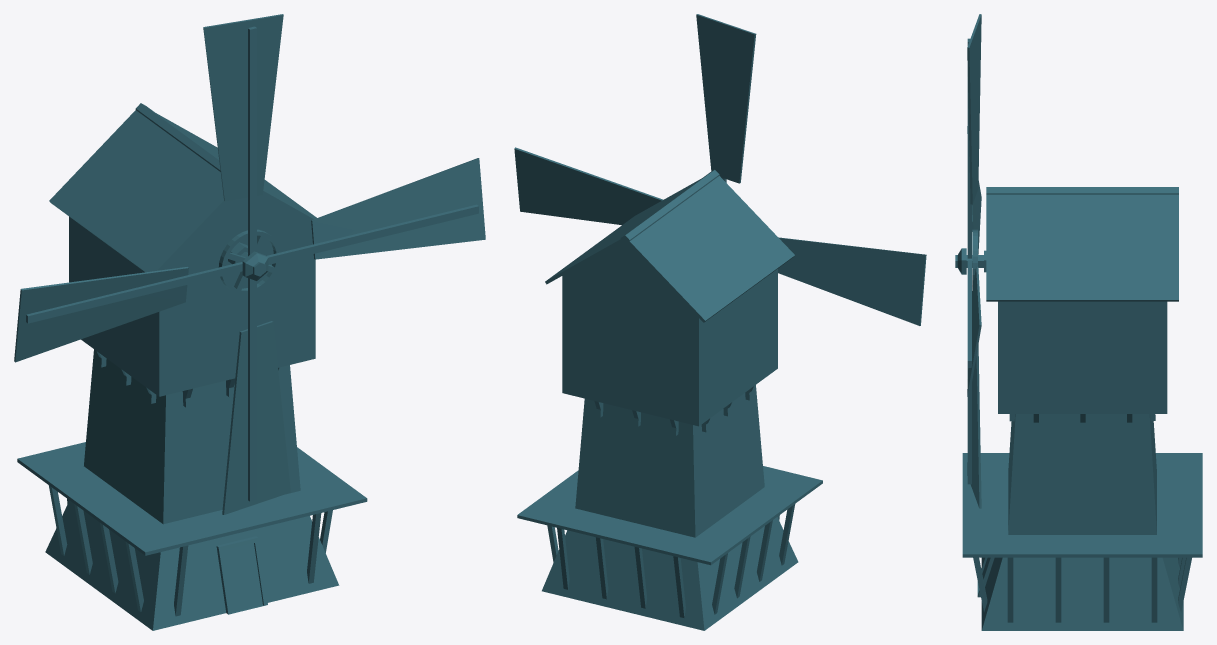
File: WindMill_Textured.dae
3 renders of one model, left to right at view 1: azimuth 30°, elevation 25°; view 2: azimuth 150°, elevation 25°; view 3: azimuth 270°, elevation 25°, orthographic. The views are drawn at different scales.
Parts seen in each view (by area): view 1: Wind_Mill; view 2: Wind_Mill; view 3: Wind_Mill.
Part boxes in pixels (x1,y1,x2,y2): Wind_Mill: (14,14,485,630); Wind_Mill: (514,14,926,630); Wind_Mill: (955,14,1202,630).
Bounding box in the file's own units: 7.59 × 3.74 × 9.25.
